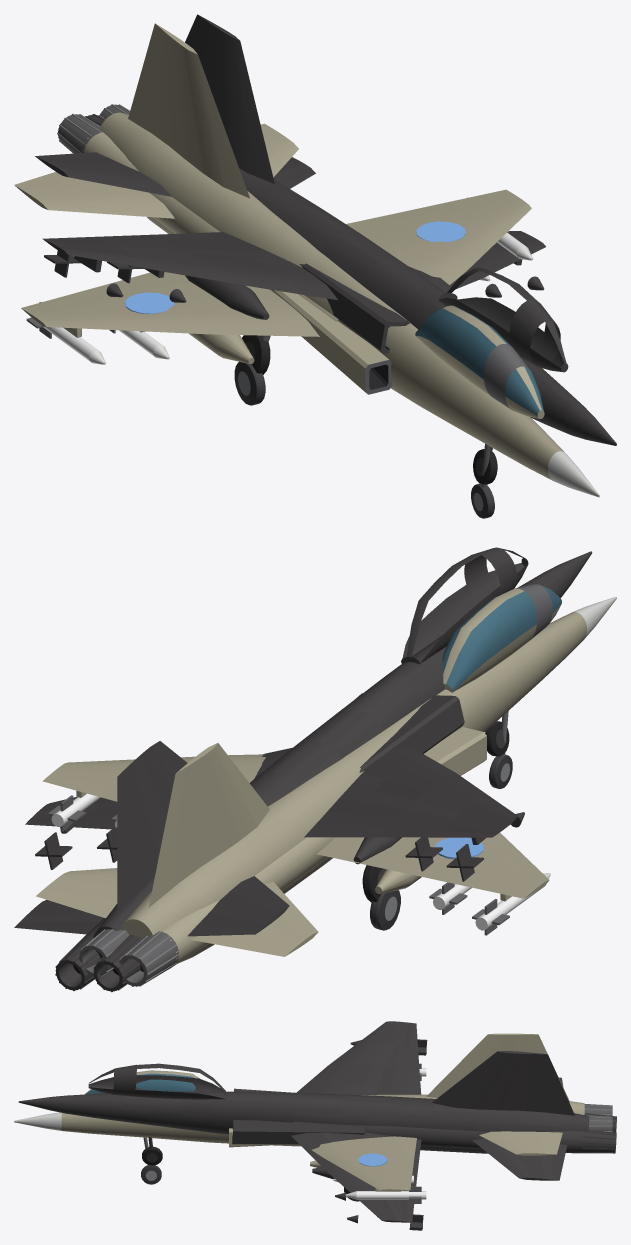
The model's file is lightFighter__f_5m.glb.
The picture shows the model from 3 angles, top to bottom: view 1: azimuth 30°, elevation 25°; view 2: azimuth 150°, elevation 25°; view 3: azimuth 270°, elevation 25°; orthographic projection. The views are drawn at different scales.
Parts seen in each view (by area): view 1: Fuselage_Mesh, Wreck; view 2: Fuselage_Mesh, Wreck; view 3: Wreck, Fuselage_Mesh.
Boxes of the visible parts, left/top/right/bottom form: Fuselage_Mesh: left=14, top=23, right=599, bottom=518; Wreck: left=35, top=14, right=616, bottom=484; Fuselage_Mesh: left=36, top=584, right=616, bottom=986; Wreck: left=14, top=547, right=592, bottom=992; Wreck: left=18, top=1021, right=616, bottom=1230; Fuselage_Mesh: left=14, top=1033, right=612, bottom=1203.
Size of what is drawn, in the model's own units: 8.4 by 4.06 by 14.82.
